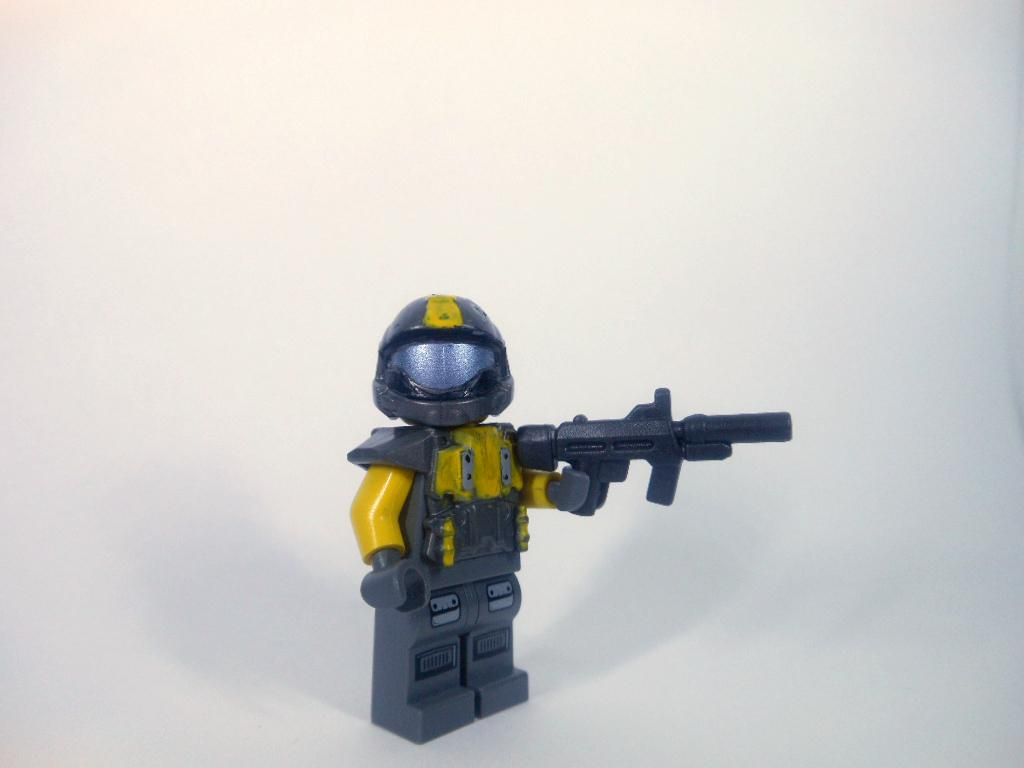Rifle: (511, 383, 793, 516)
